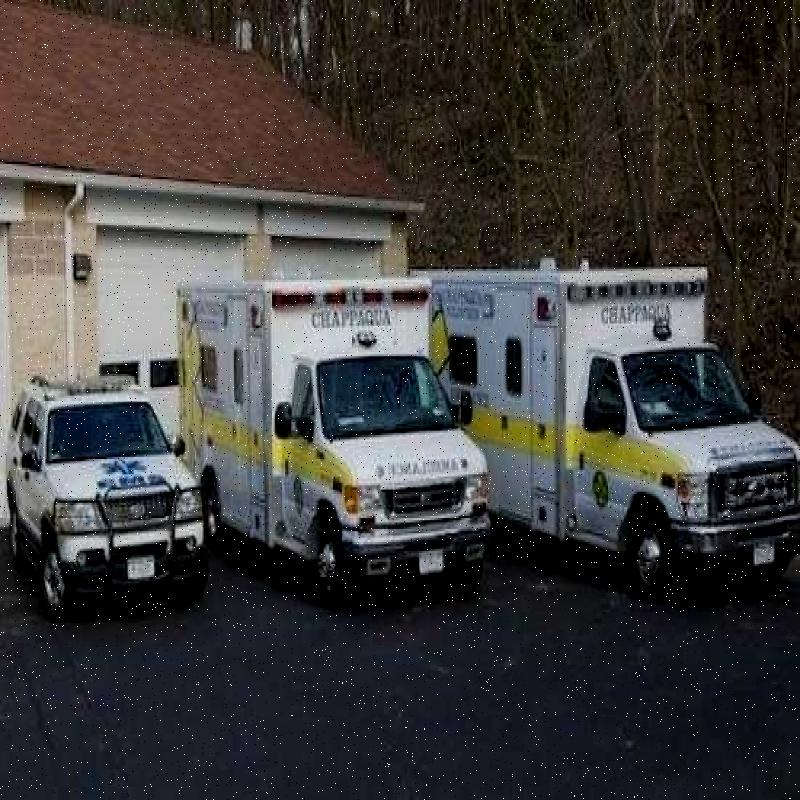AmbulanceSiren: (263, 276, 457, 316), (570, 268, 702, 321)
